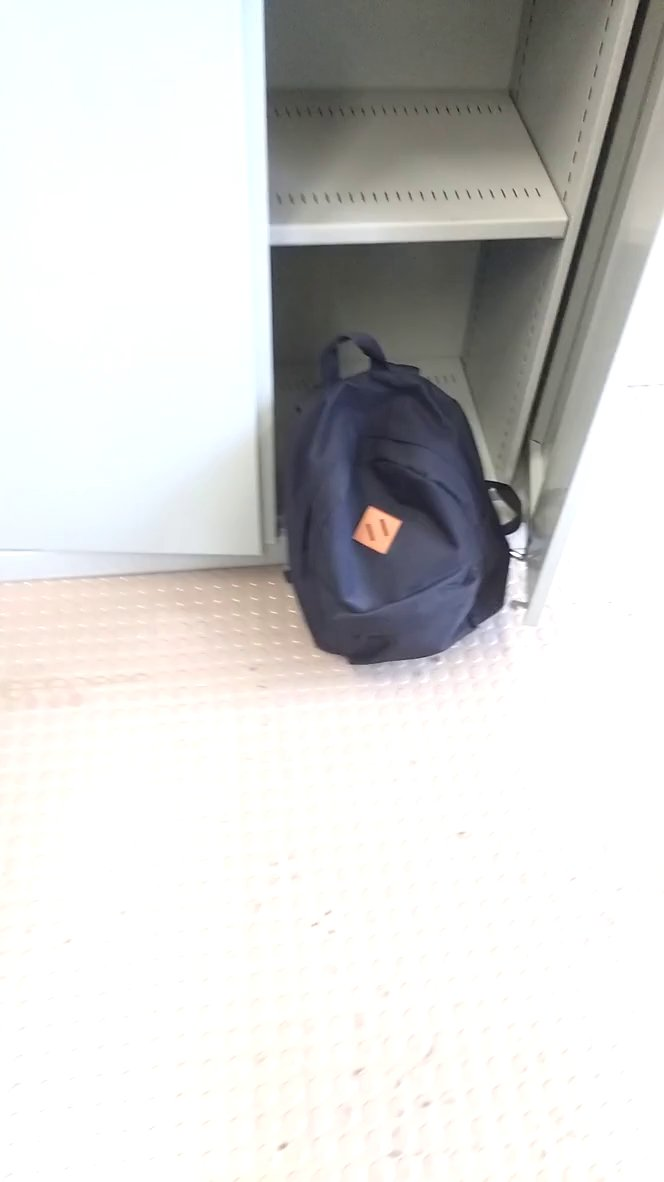bag: (273, 324, 525, 676)
